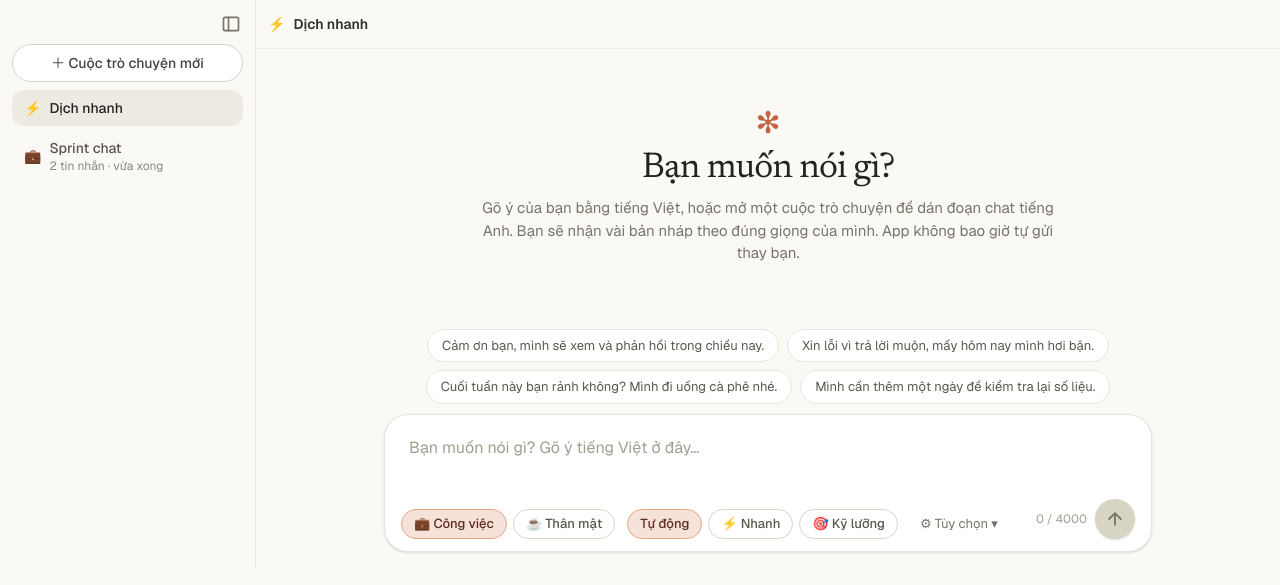
ReplyWorkspace › opens a conversation: its messages appear and the composer switches to paste mode
The image size is (1280, 585).
Click the button "💼 Sprint chat 2 tin nhắn · vừa xong" at (128, 156), box [12, 130, 243, 182]
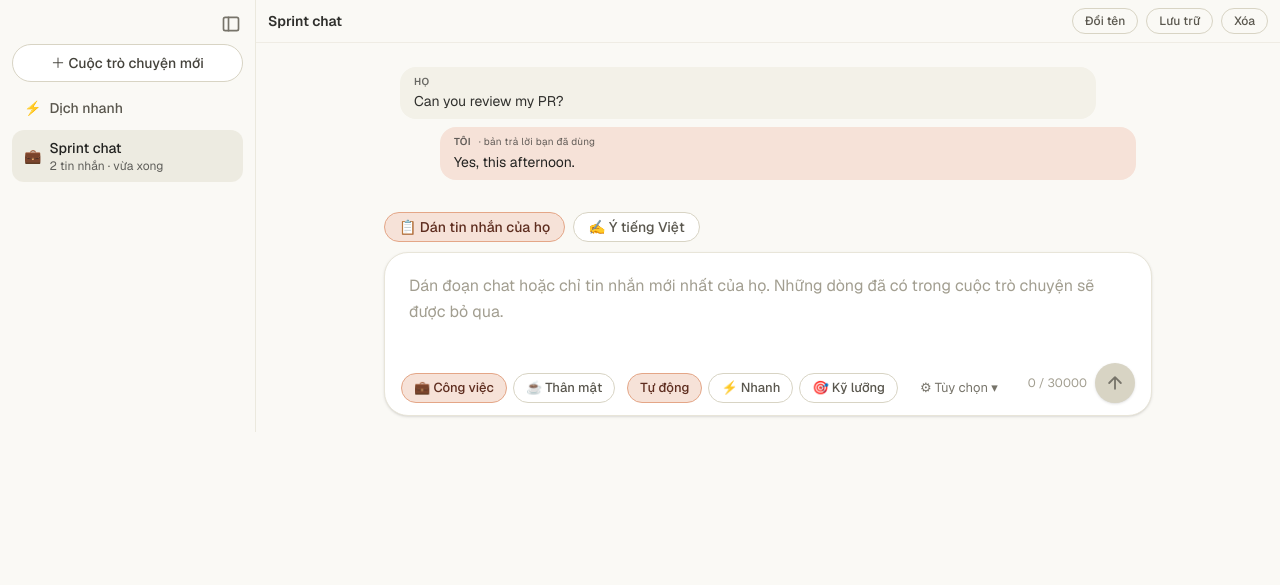
Expected: the text "Can you review my PR?" is shown, [414, 92, 564, 110]
Expected: the text "Yes, this afternoon." is shown, [454, 153, 575, 171]
Expected: the element named "Nội dung muốn viết" is shown, [384, 212, 700, 242]
